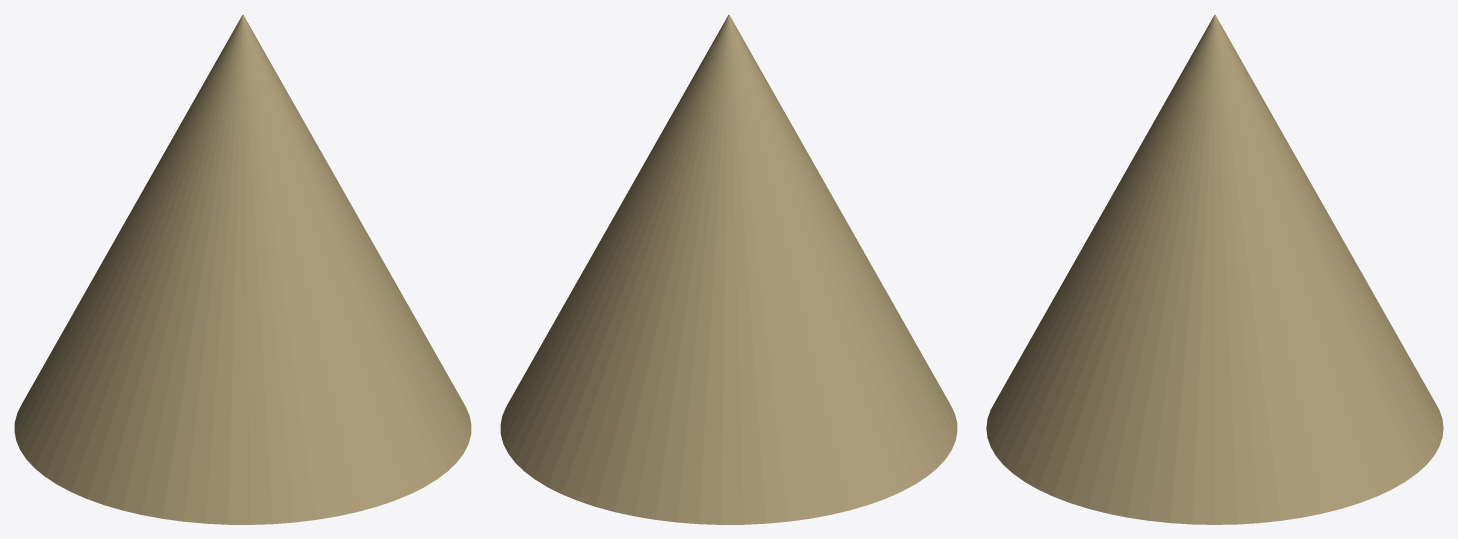
3 renders of one model, left to right at view 1: azimuth 30°, elevation 25°; view 2: azimuth 150°, elevation 25°; view 3: azimuth 270°, elevation 25°, orthographic.
Visible parts, largest first — view 1: Cone.006; view 2: Cone.006; view 3: Cone.006.
Boxes of the visible parts, left/top/right/bottom form: Cone.006: left=14, top=14, right=471, bottom=524; Cone.006: left=500, top=14, right=957, bottom=524; Cone.006: left=986, top=14, right=1443, bottom=524.
Bounding box in the file's own units: 3.88 × 3.88 × 3.88.
